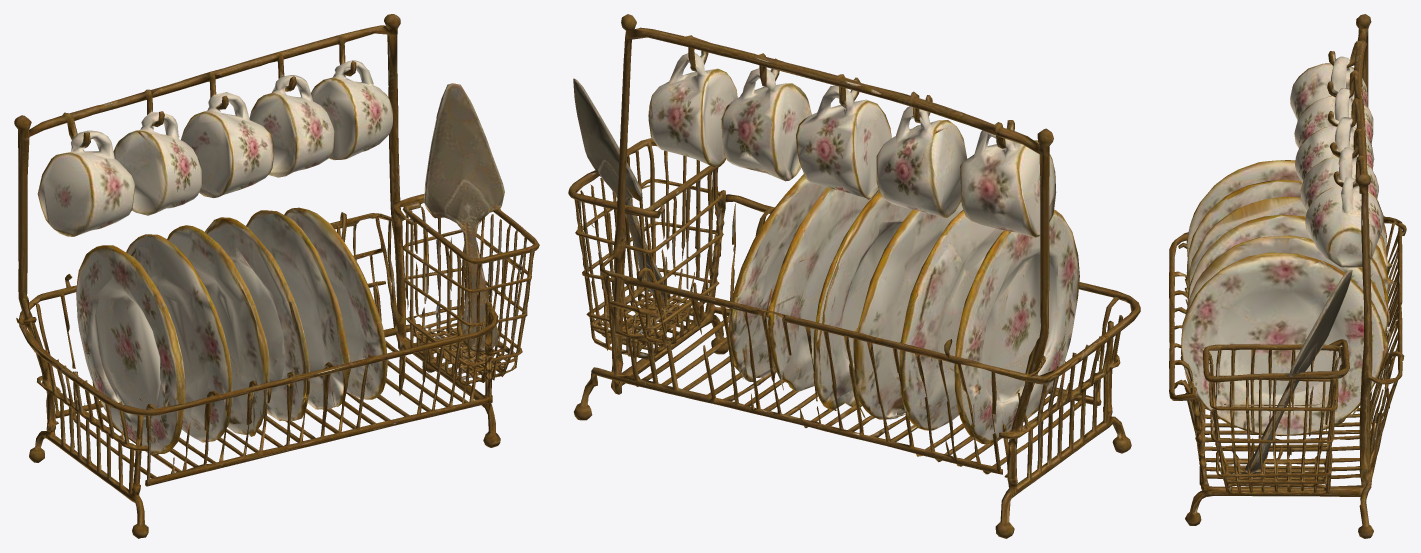
Rendered from k_rack.glb.
3 renders of one model, left to right at view 1: azimuth 30°, elevation 25°; view 2: azimuth 150°, elevation 25°; view 3: azimuth 270°, elevation 25°, orthographic. The views are drawn at different scales.
Bounding box in the file's own units: 1.9 × 1.49 × 0.9189.
Materials: 1 (1 with a texture image).
